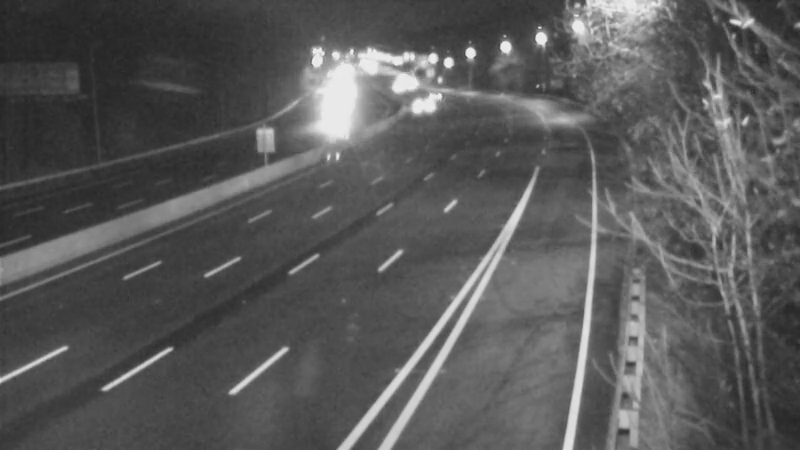vehicle: (411, 68, 461, 118), (394, 80, 444, 130), (309, 99, 359, 149)
